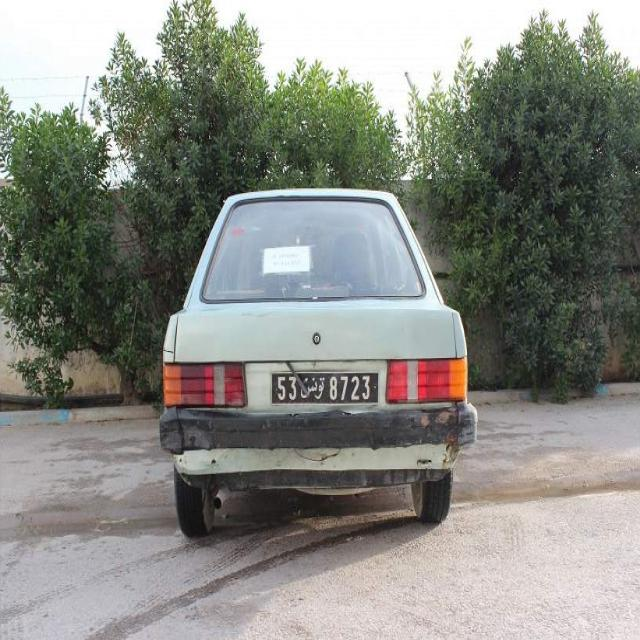licence plate: (270, 373, 379, 405)
